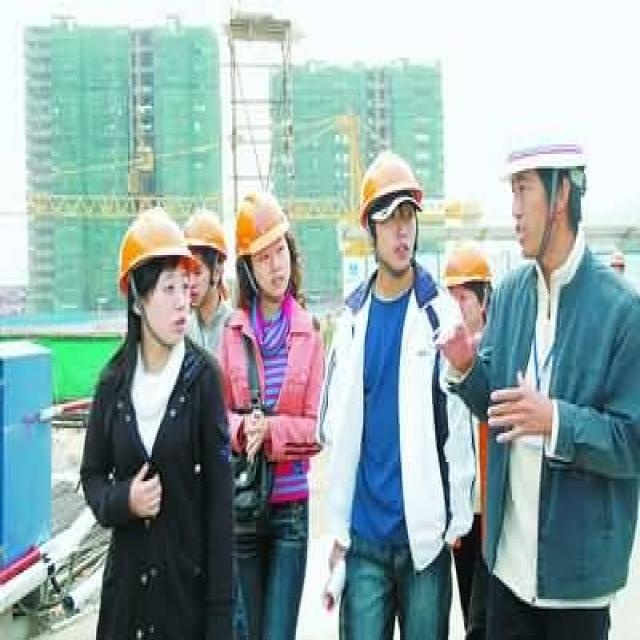Con_Casco: (118, 210, 191, 340), (361, 151, 424, 268), (236, 189, 296, 298)
